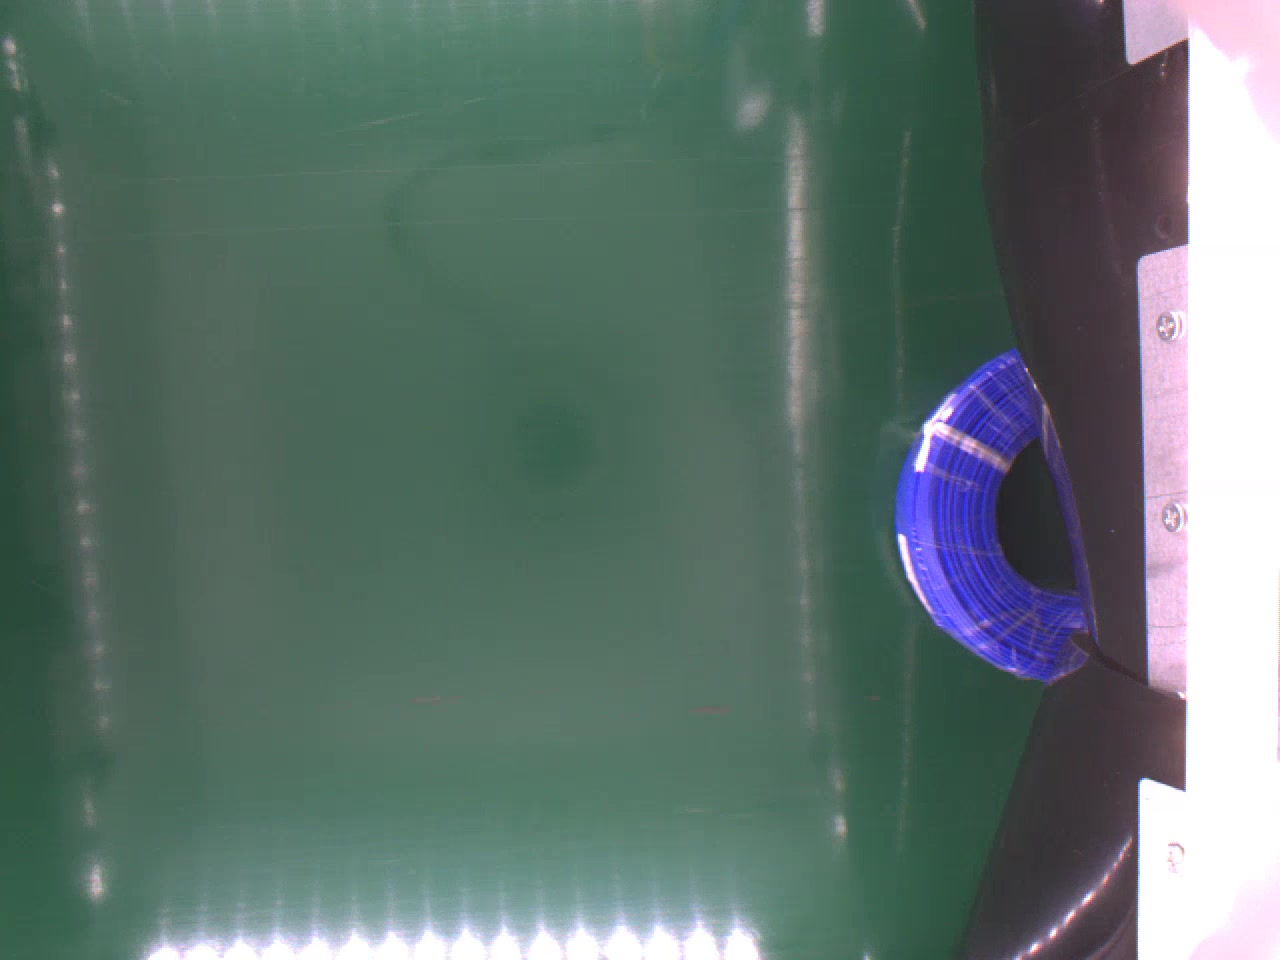blue: (892, 350, 1090, 682)
